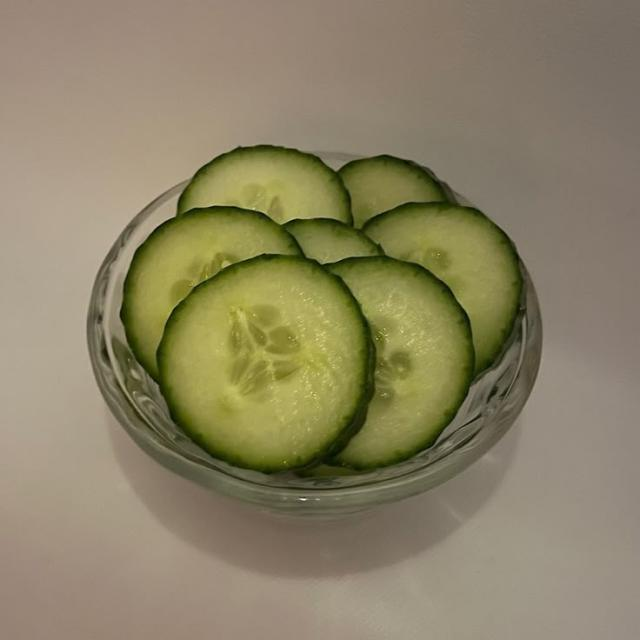cucumber sliced: (158, 256, 374, 472), (327, 257, 473, 469), (121, 207, 300, 379), (364, 203, 522, 373), (178, 146, 352, 224), (339, 155, 446, 227), (285, 219, 383, 263)
